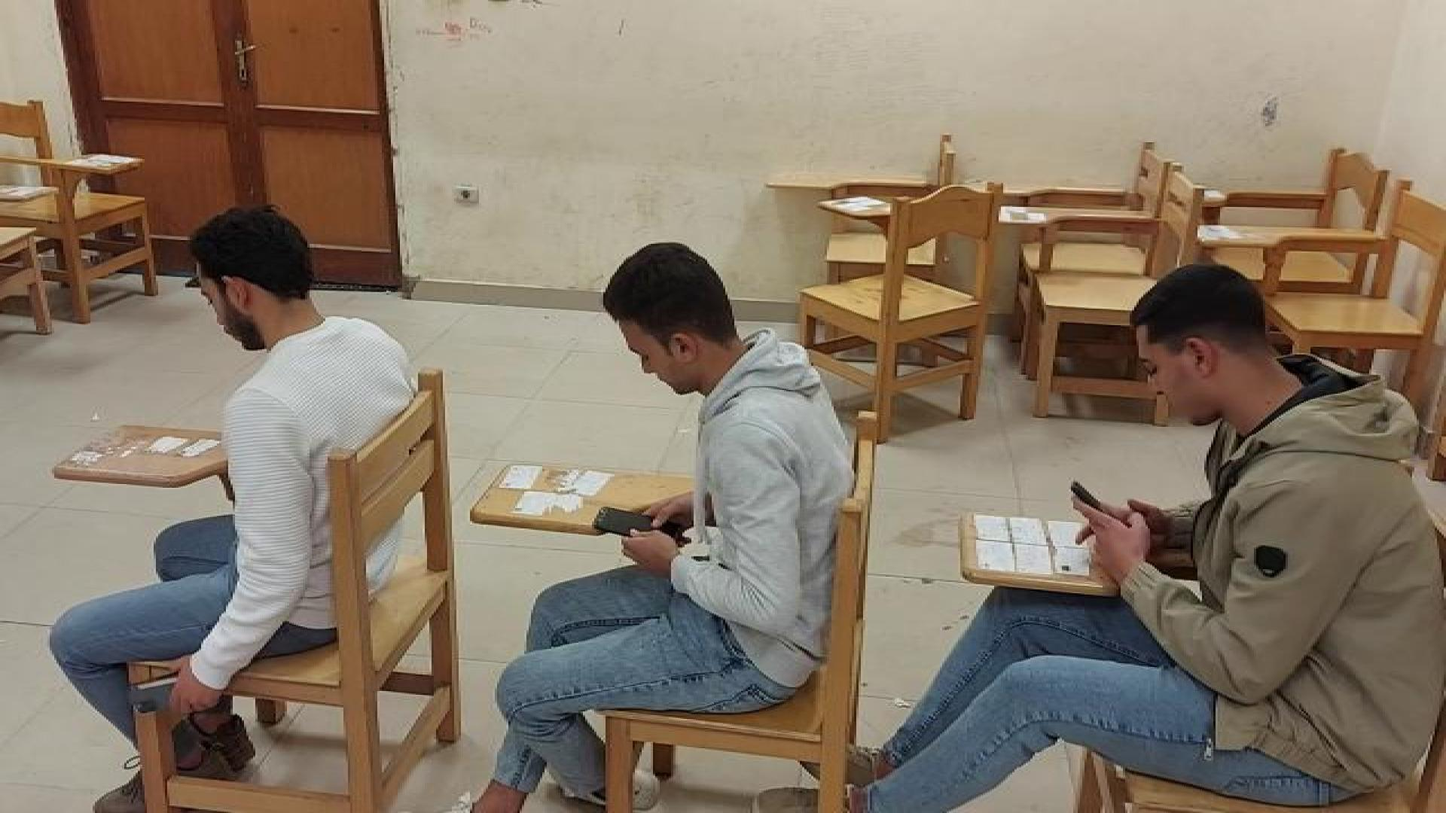phone: (591, 501, 686, 548), (121, 675, 200, 718), (1069, 476, 1134, 526)
